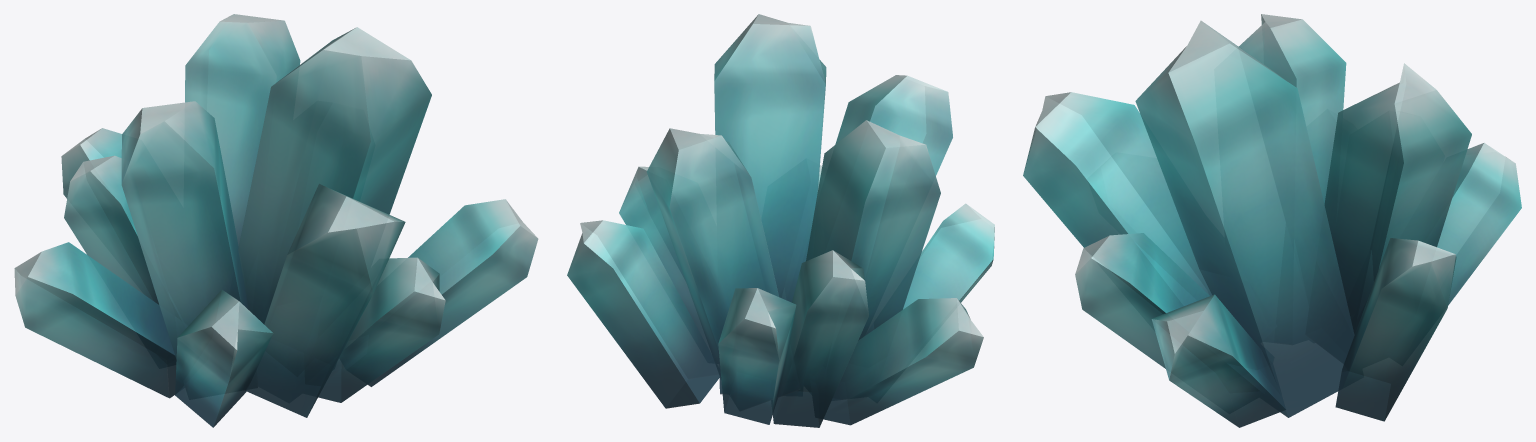
The model's file is Crystal_ver.4.fbx.
The picture shows the model from 3 angles, left to right: view 1: azimuth 30°, elevation 25°; view 2: azimuth 150°, elevation 25°; view 3: azimuth 270°, elevation 25°; orthographic projection. The views are drawn at different scales.
Visible parts, largest first — view 1: Crystal11; view 2: Crystal11; view 3: Crystal11.
Boxes of the visible parts, bbox=[...] form: Crystal11: bbox=[14, 14, 538, 427]; Crystal11: bbox=[567, 14, 994, 427]; Crystal11: bbox=[1023, 14, 1521, 427].
Size of the model in its own units: 82.24 by 65.06 by 77.65.
